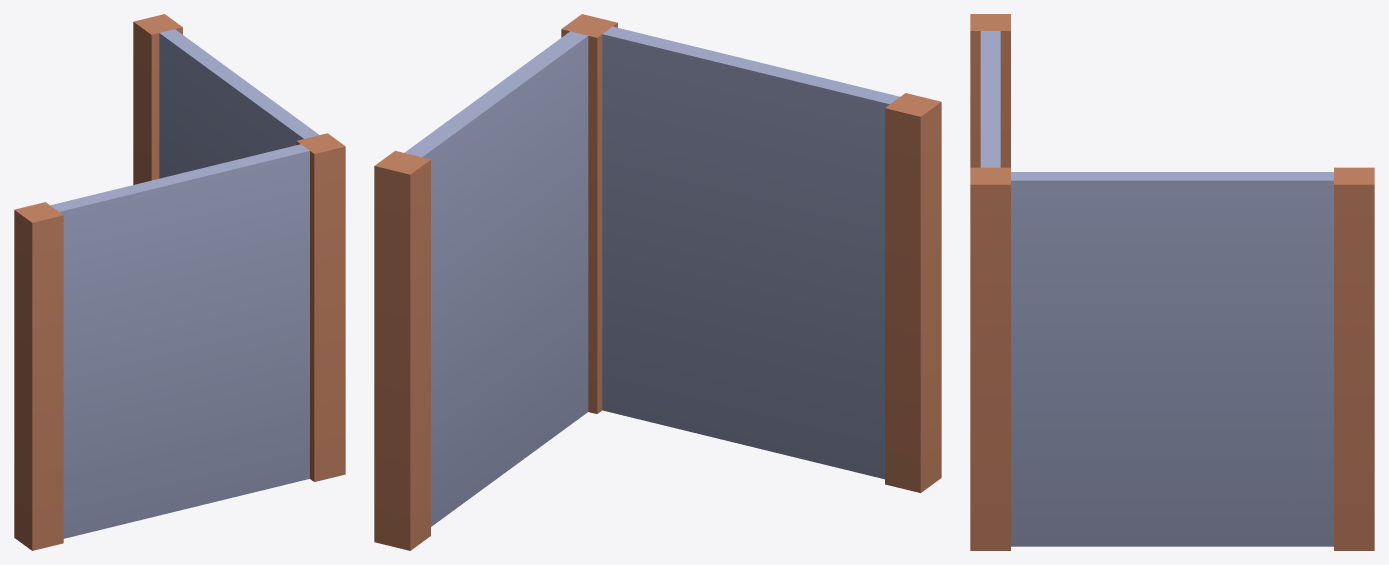
File: wall-kn-wall-corner.glb
3 renders of one model, left to right at view 1: azimuth 30°, elevation 25°; view 2: azimuth 150°, elevation 25°; view 3: azimuth 270°, elevation 25°, orthographic. The views are drawn at different scales.
Parts seen in each view (by area): view 1: wall-corner; view 2: wall-corner; view 3: wall-corner.
Part boxes in pixels (left/top/right/bottom): wall-corner: left=14, top=14, right=345, bottom=550; wall-corner: left=374, top=14, right=941, bottom=550; wall-corner: left=970, top=14, right=1374, bottom=550.
Bounding box in the file's own units: 3 × 3 × 3.
Materials: 1 (1 with a texture image).
